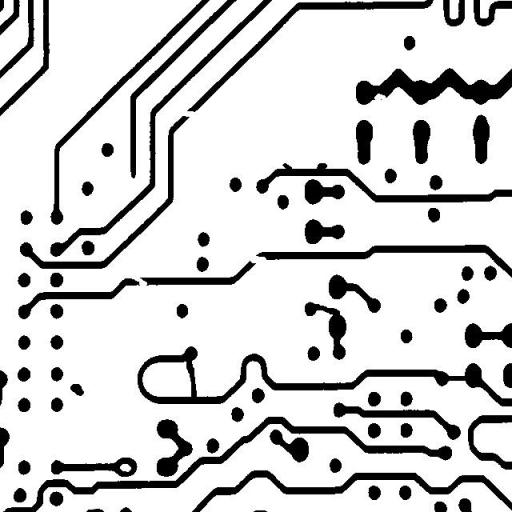copper: (62, 376, 92, 403)
mousebite: (366, 86, 393, 107)
open: (124, 267, 154, 293), (242, 248, 274, 270), (174, 103, 202, 124)
pin-hole: (112, 456, 138, 479)
short: (178, 345, 204, 407), (304, 296, 347, 324), (436, 368, 474, 388)
spur: (309, 155, 334, 179), (274, 155, 300, 178)
